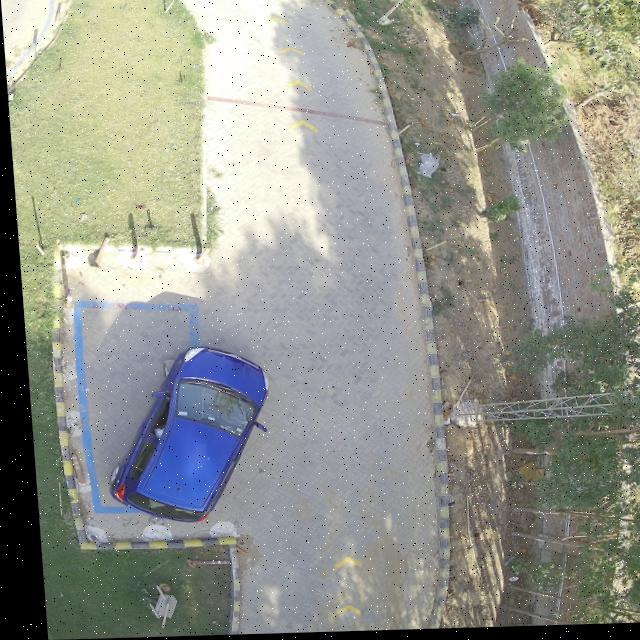car: (102, 348, 261, 523)
